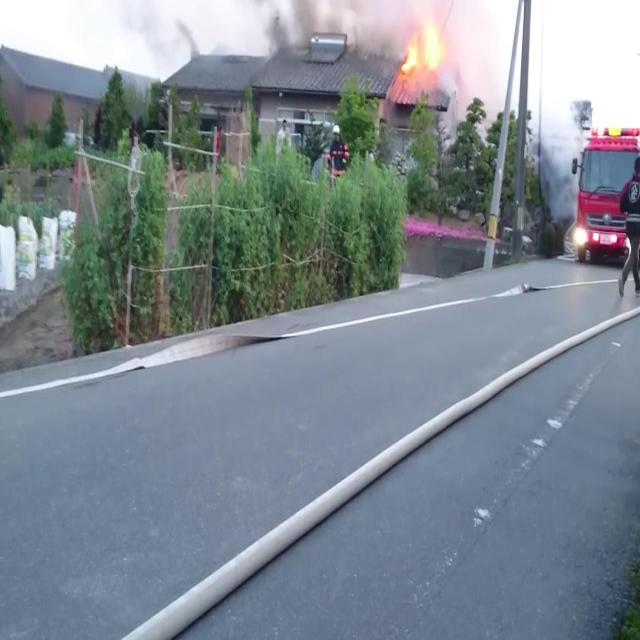Fire: (404, 17, 446, 73)
